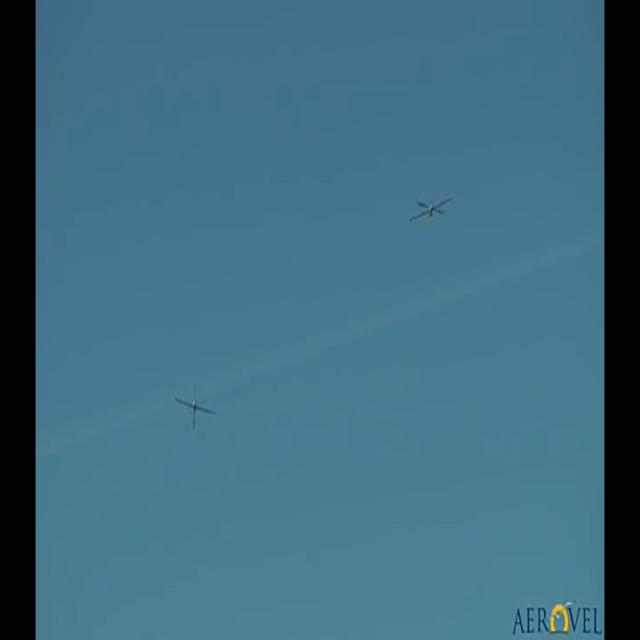iha: (174, 385, 217, 435), (408, 191, 456, 227)
